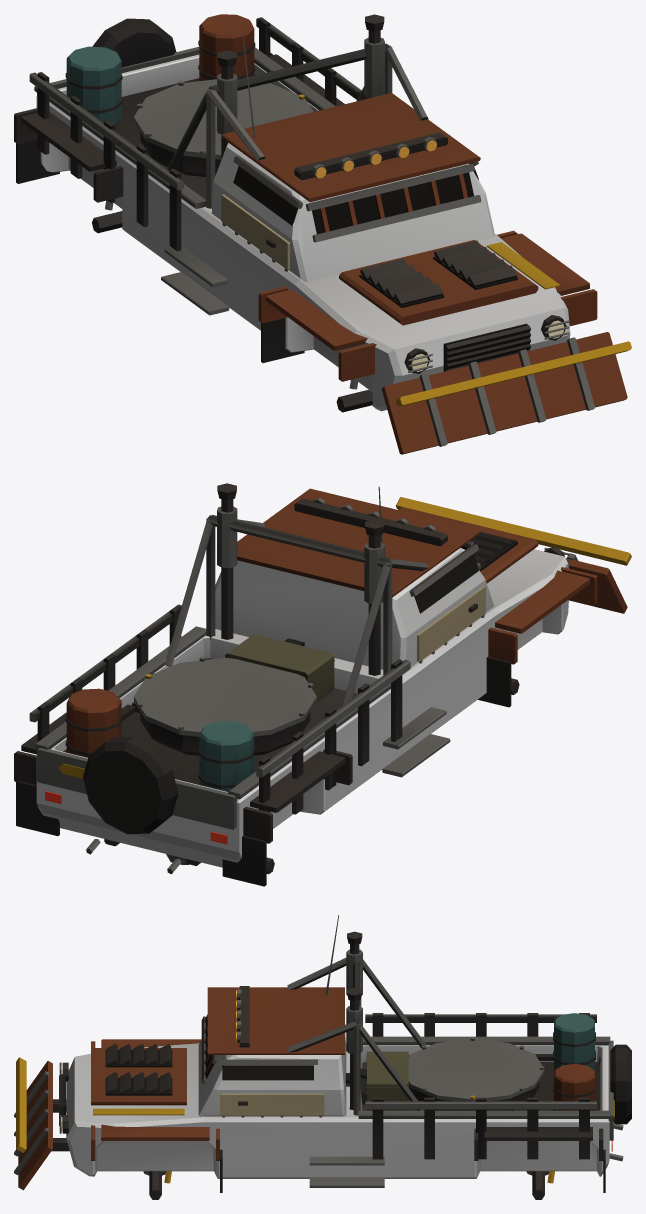
The model's file is gunTruck.glb.
3 renders of one model, top to bottom at view 1: azimuth 30°, elevation 25°; view 2: azimuth 150°, elevation 25°; view 3: azimuth 270°, elevation 25°, orthographic. The views are drawn at different scales.
Visible parts, largest first — view 1: Body, Paint_Mesh, Glow; view 2: Body, Paint_Mesh; view 3: Body, Paint_Mesh.
Boxes of the visible parts, x1,y1,x2,y2 form: Body: [14, 14, 631, 454]; Paint_Mesh: [36, 54, 570, 411]; Glow: [315, 140, 564, 371]; Body: [14, 483, 631, 886]; Paint_Mesh: [36, 548, 568, 867]; Body: [14, 915, 631, 1199]; Paint_Mesh: [66, 1033, 609, 1178].
Bounding box in the file's own units: 2.78 × 3.11 × 7.42.
